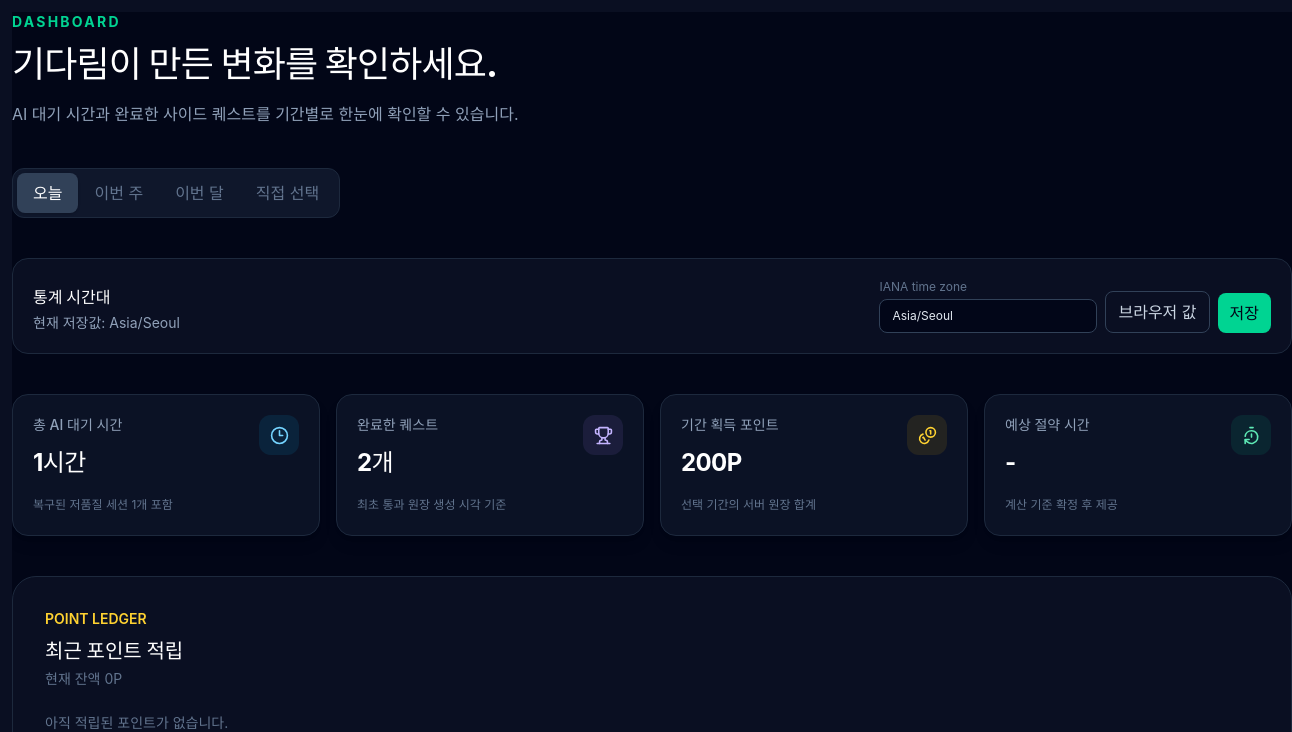
Test: Dashboard server statistics › renders server aggregates and reloads when the period changes
Expected: the text "1시간" is shown, 33,448 -> 86,477
Expected: the text "복구된 저품질 세션 1개 포함" is shown, 33,497 -> 173,512
Click the button "이번 주". click: (119, 193)
box: 78,173 -> 159,213
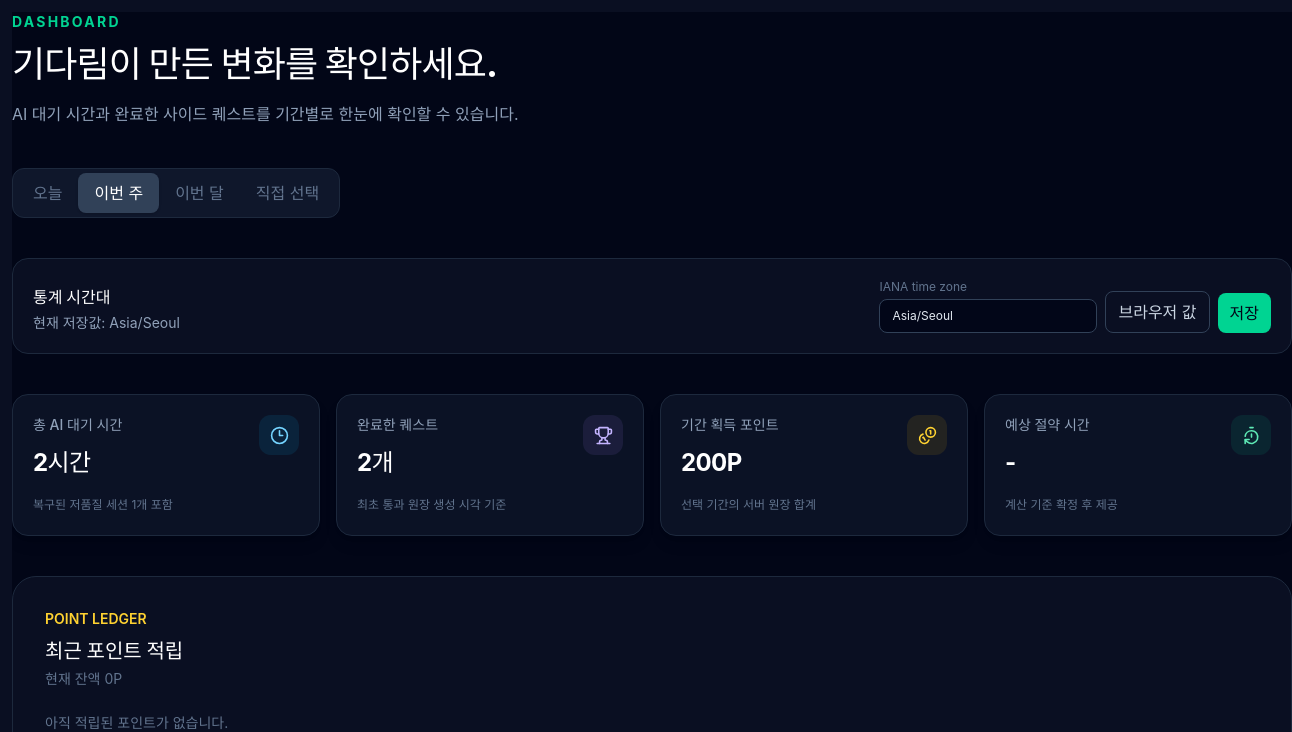
Result: the text "2시간" is shown at 33,448 -> 90,477
